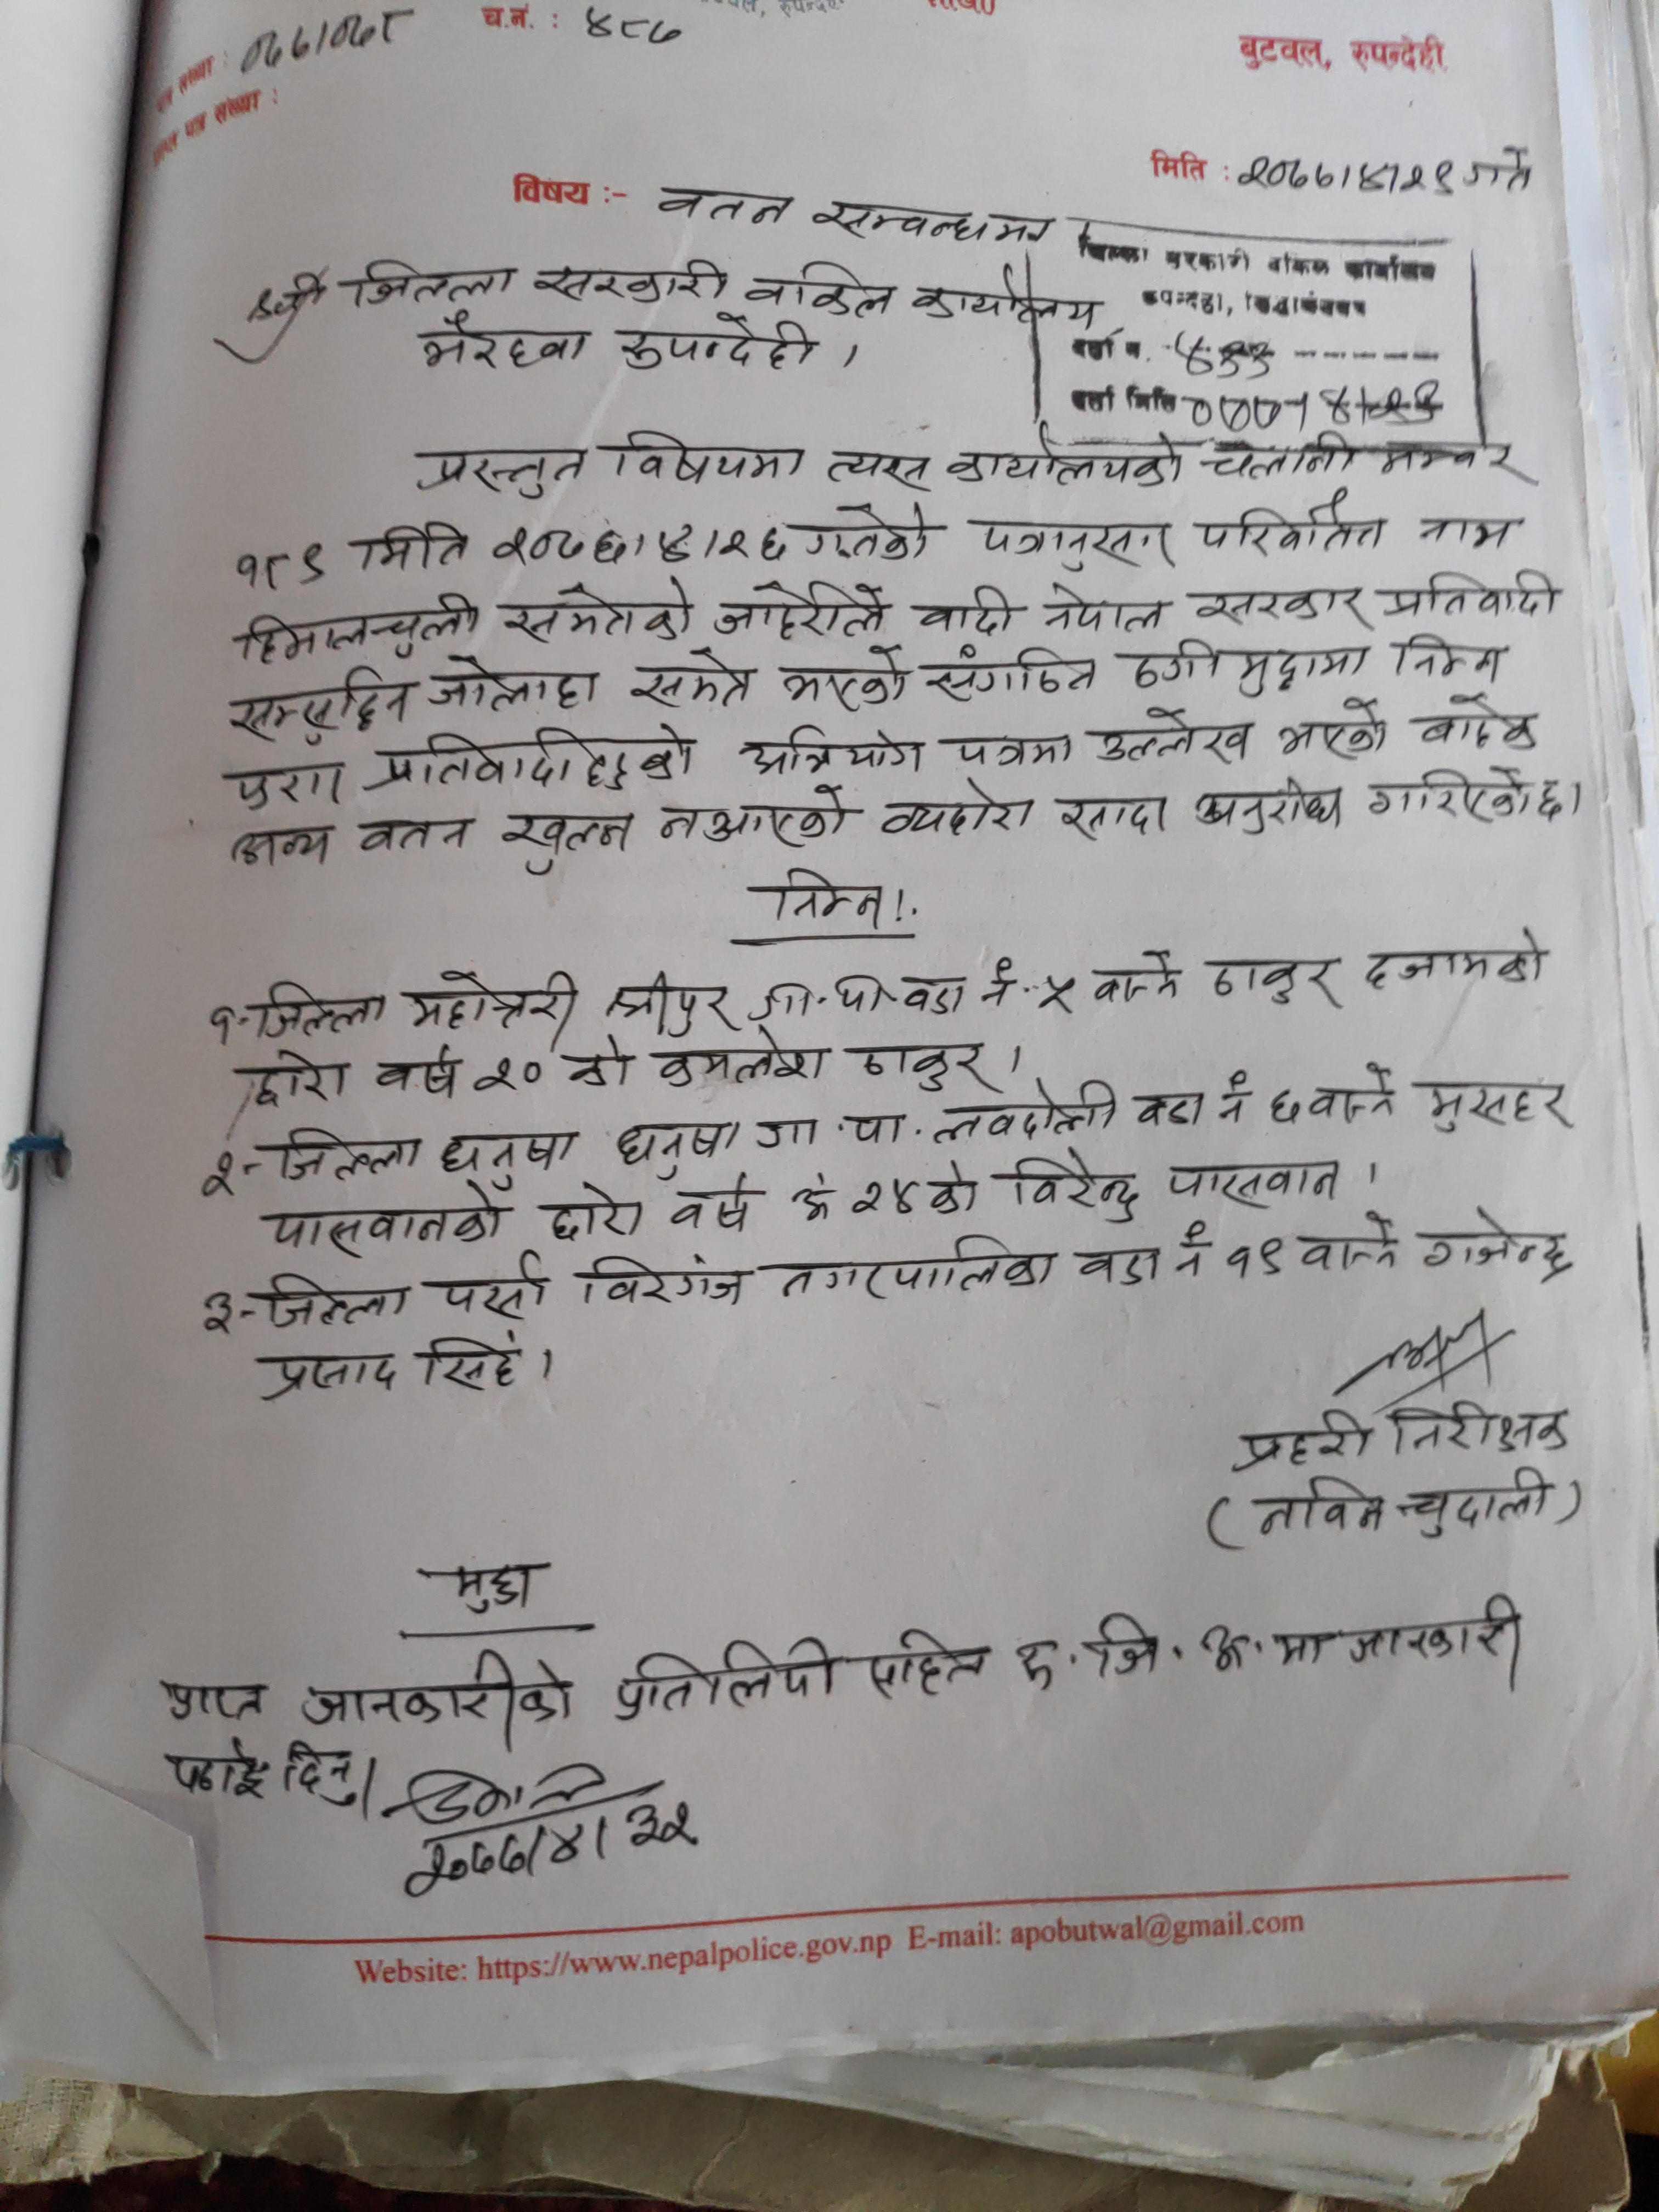text: (1007, 1602, 1331, 1695), (399, 1799, 706, 1897), (368, 723, 702, 798), (295, 1648, 575, 1733), (767, 1226, 1058, 1298), (608, 1635, 840, 1717), (1349, 1594, 1530, 1696), (946, 425, 1190, 496), (239, 589, 483, 660), (225, 662, 418, 745), (491, 516, 789, 570), (268, 1193, 505, 1256), (1190, 481, 1389, 552), (500, 573, 699, 644), (1126, 637, 1370, 695), (648, 782, 849, 852), (617, 312, 824, 378), (403, 961, 579, 1036), (925, 1080, 1122, 1146), (974, 516, 1183, 577), (610, 423, 807, 488), (812, 199, 1063, 249), (1363, 927, 1549, 995), (1422, 1207, 1582, 1284), (1394, 1463, 1551, 1540), (1382, 1397, 1579, 1458), (650, 1028, 826, 1094), (1230, 152, 1460, 202), (732, 721, 927, 780), (706, 578, 889, 641), (1006, 1150, 1148, 1230), (415, 312, 596, 373), (410, 441, 589, 502), (924, 641, 1098, 704), (904, 275, 1100, 331), (234, 12, 411, 73), (572, 1252, 753, 1312), (1364, 761, 1532, 824), (857, 1623, 988, 1703), (530, 260, 735, 310), (1185, 775, 1345, 840), (1091, 704, 1255, 766), (845, 1038, 1004, 1103), (1164, 1157, 1342, 1214), (422, 657, 605, 712), (1373, 566, 1561, 620), (1248, 1474, 1391, 1543), (1424, 1075, 1574, 1141), (260, 1270, 413, 1332), (606, 968, 746, 1036), (880, 780, 1035, 841), (1227, 1409, 1373, 1474), (251, 1346, 401, 1409), (502, 808, 634, 878), (805, 496, 939, 564), (756, 864, 894, 930), (272, 1127, 425, 1186), (1204, 951, 1344, 1015), (775, 646, 910, 711), (251, 979, 392, 1040), (746, 263, 894, 320), (647, 176, 798, 232), (1417, 690, 1541, 758), (1276, 697, 1392, 765), (439, 1130, 579, 1186), (626, 650, 749, 712), (349, 260, 519, 305), (742, 970, 885, 1024), (420, 1325, 525, 1399), (1297, 1209, 1403, 1278), (1201, 432, 1358, 479), (612, 1120, 739, 1177), (1039, 580, 1169, 636), (1194, 583, 1364, 625), (162, 1738, 267, 1806), (349, 517, 476, 573), (439, 1261, 551, 1324), (242, 1047, 350, 1111), (1164, 326, 1274, 387), (232, 759, 350, 815), (1307, 1059, 1401, 1129), (1089, 944, 1187, 1010), (1394, 632, 1513, 686), (282, 1738, 361, 1817), (915, 582, 1019, 639), (542, 1190, 647, 1247), (755, 1109, 904, 1150), (228, 540, 331, 597), (352, 812, 479, 857), (371, 1042, 462, 1104), (450, 1557, 542, 1618), (939, 730, 1077, 770), (1056, 792, 1168, 840), (669, 1176, 760, 1233), (162, 1677, 268, 1726), (575, 3, 683, 51), (824, 446, 929, 493), (225, 827, 340, 869), (1072, 1238, 1166, 1289), (1420, 510, 1523, 554), (568, 1036, 640, 1097), (1464, 141, 1539, 193), (1126, 1085, 1209, 1130), (1222, 1233, 1291, 1287), (474, 1052, 545, 1103), (897, 970, 969, 1019), (925, 1158, 976, 1223), (974, 953, 1019, 1015), (849, 1177, 917, 1219), (1171, 1219, 1213, 1285), (1035, 970, 1082, 1021), (197, 1282, 237, 1339), (199, 1153, 242, 1205), (1216, 1066, 1251, 1130), (1528, 779, 1574, 827), (793, 1172, 835, 1224), (1263, 1080, 1304, 1130), (202, 1003, 239, 1045)
